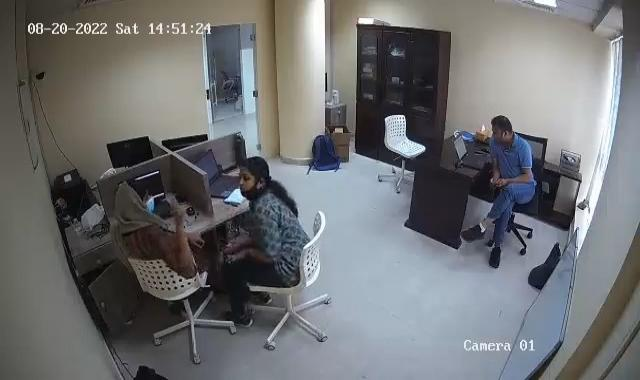no_hairnet: (236, 154, 270, 194), (118, 176, 148, 215), (486, 110, 517, 139)
